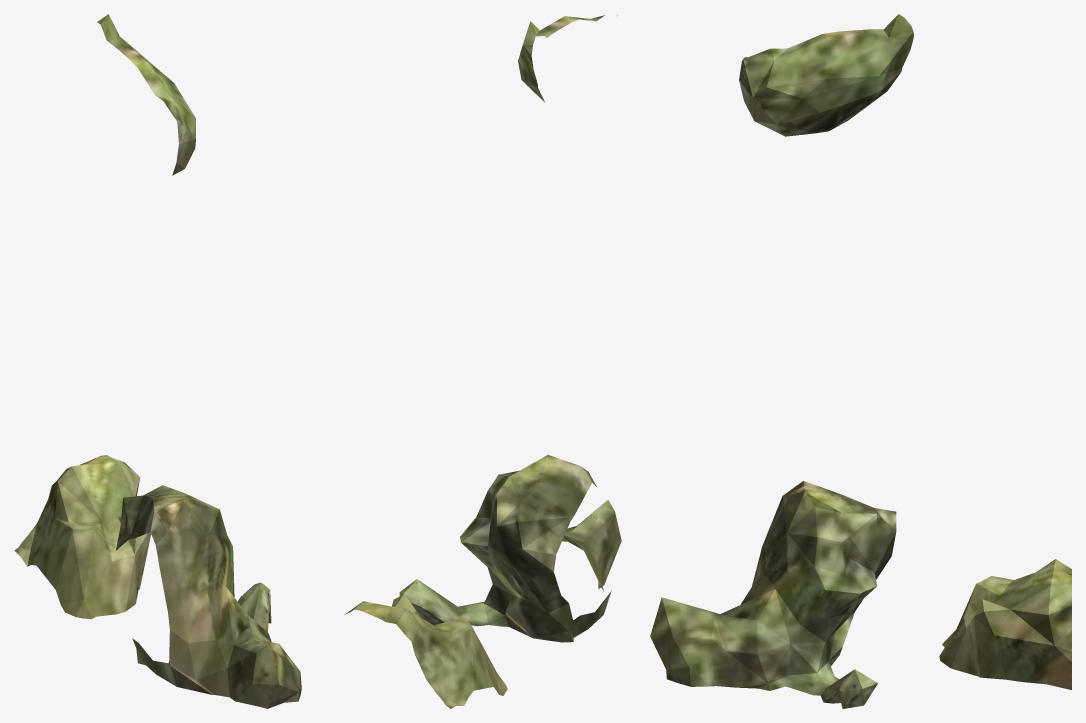
The picture shows the model from 3 angles, left to right: view 1: azimuth 30°, elevation 25°; view 2: azimuth 150°, elevation 25°; view 3: azimuth 270°, elevation 25°; orthographic projection. The views are drawn at different scales.
Bounding box in the file's own units: 0.5533 × 2.15 × 1.31.
Materials: 1 (1 with a texture image).
